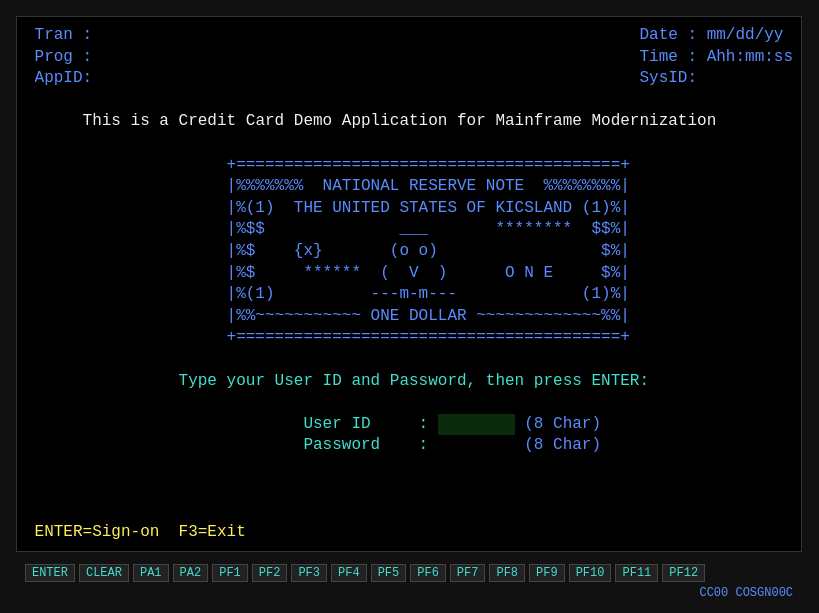
Test: buildFields › lets PF keys act on the current map after a failed first send, and does not retry a 403
The width and height of the screenshot is (819, 613).
Later steps or results of the test are not shown.
Click the button "ENTER": (50, 573) [25,564,75,582]
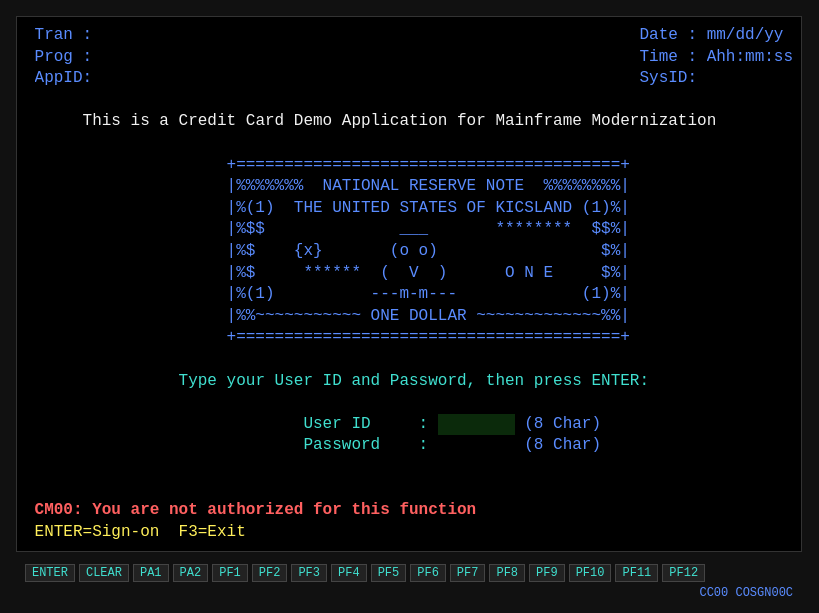
Now the text "CM00: You are not authorized for this function" is shown, box [34,501,476,519]
